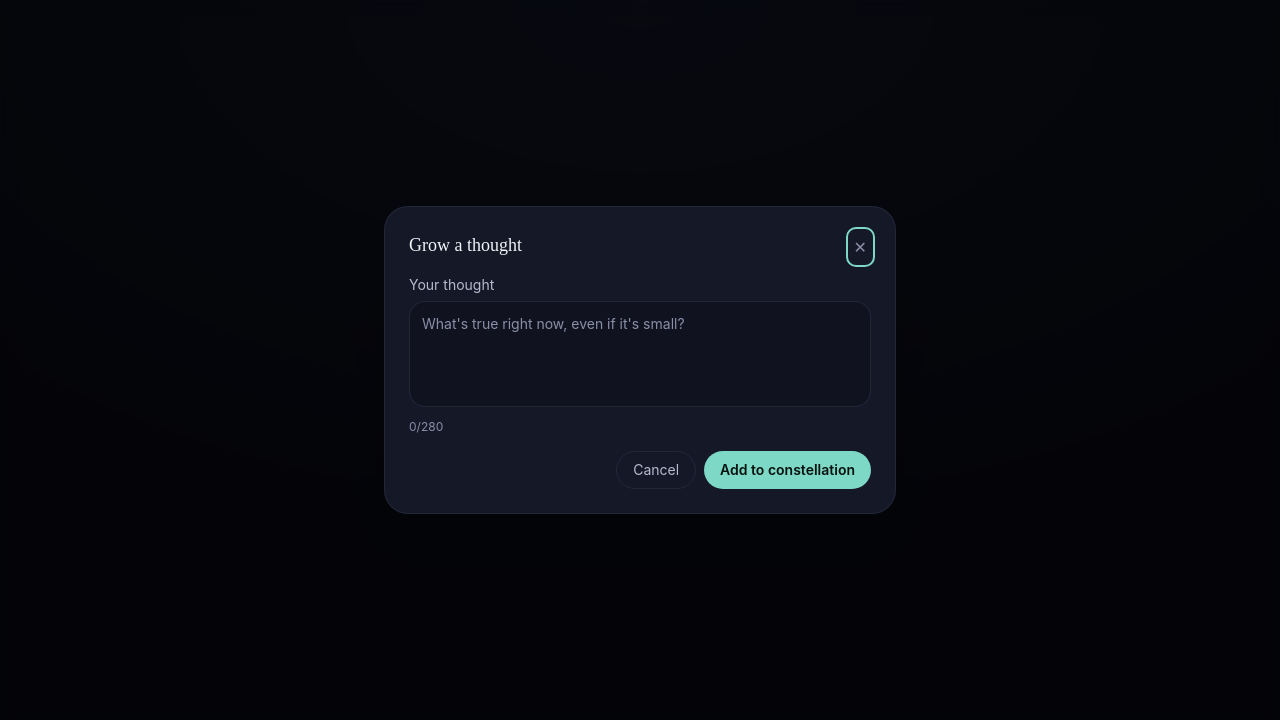
Test case: ComposeModal › shows a validation error when submitting empty text
This screenshot has width=1280, height=720.
Click the button "Add to constellation". click: (788, 470)
box: [704,451,871,489]
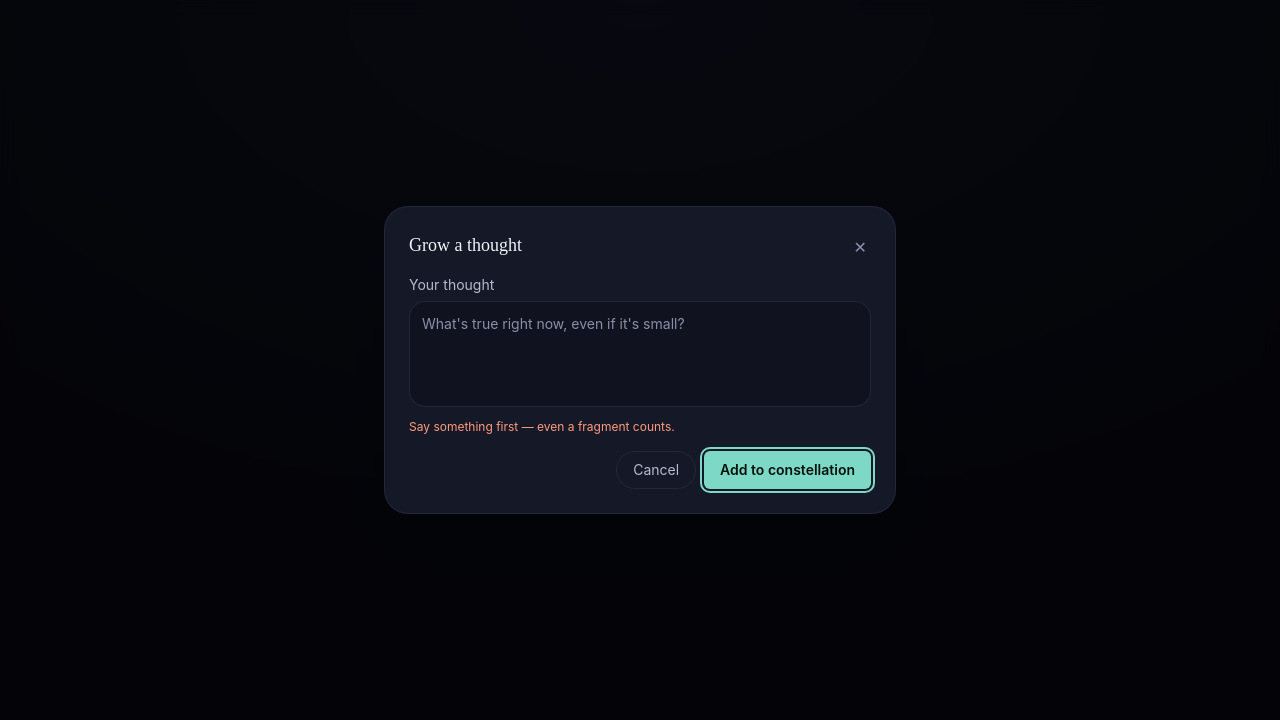
Expected: the message shows "Say something", [409,419,675,434]
